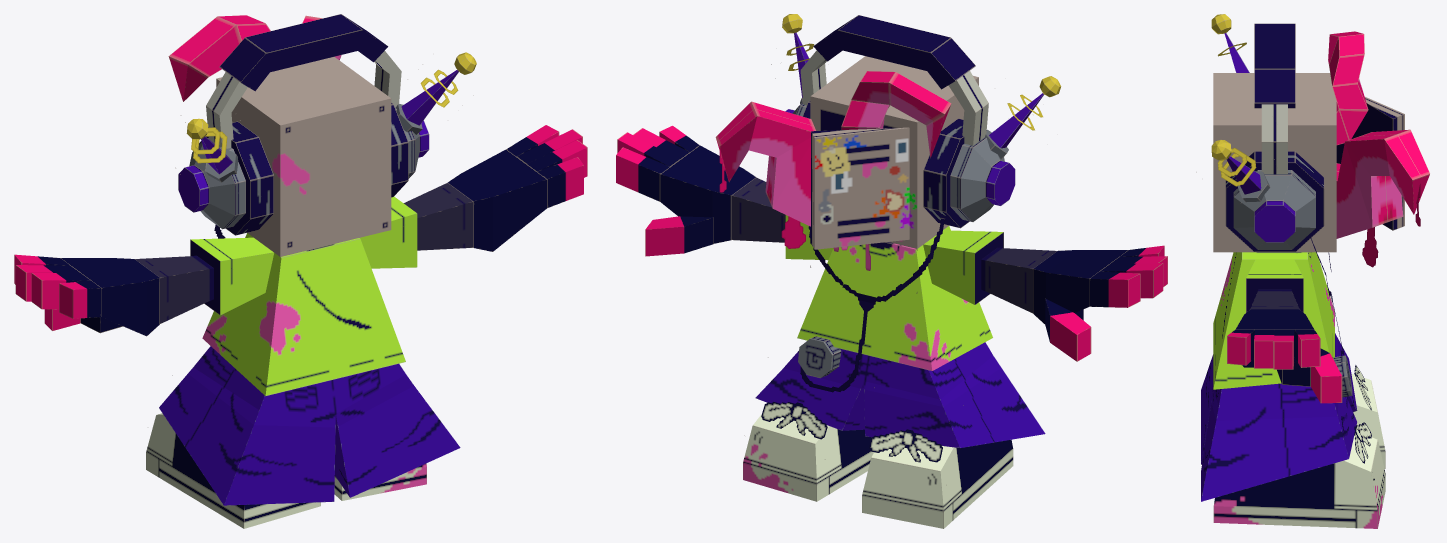
The model's file is Emerz35.obj.
3 views of the same model, side by side, from view 1: azimuth 30°, elevation 25°; view 2: azimuth 150°, elevation 25°; view 3: azimuth 270°, elevation 25° (orthographic). The views are drawn at different scales.
Visible parts, largest first — view 1: cuboid, cylinder, pyramid, plane, sphere; view 2: cuboid, cylinder, plane, pyramid, sphere; view 3: cuboid, cylinder, plane, pyramid, sphere.
Boxes of the visible parts, x1=… form: cuboid: x1=14, y1=14, x2=587, y2=528; cylinder: x1=178, y1=102, x2=429, y2=235; pyramid: x1=201, y1=70, x2=458, y2=174; plane: x1=172, y1=64, x2=473, y2=375; sphere: x1=186, y1=52, x2=476, y2=139; cuboid: x1=616, y1=15, x2=1167, y2=528; cylinder: x1=785, y1=98, x2=1015, y2=378; plane: x1=744, y1=43, x2=1042, y2=485; pyramid: x1=794, y1=32, x2=1044, y2=148; sphere: x1=782, y1=14, x2=1061, y2=97; cuboid: x1=1201, y1=23, x2=1429, y2=528; cylinder: x1=1225, y1=151, x2=1352, y2=397; plane: x1=1196, y1=42, x2=1371, y2=463; pyramid: x1=1224, y1=33, x2=1261, y2=194; sphere: x1=1211, y1=14, x2=1231, y2=160.
Size of the model in its own units: 2.35 by 1.82 by 0.8986.
1 material, 1 textured.
